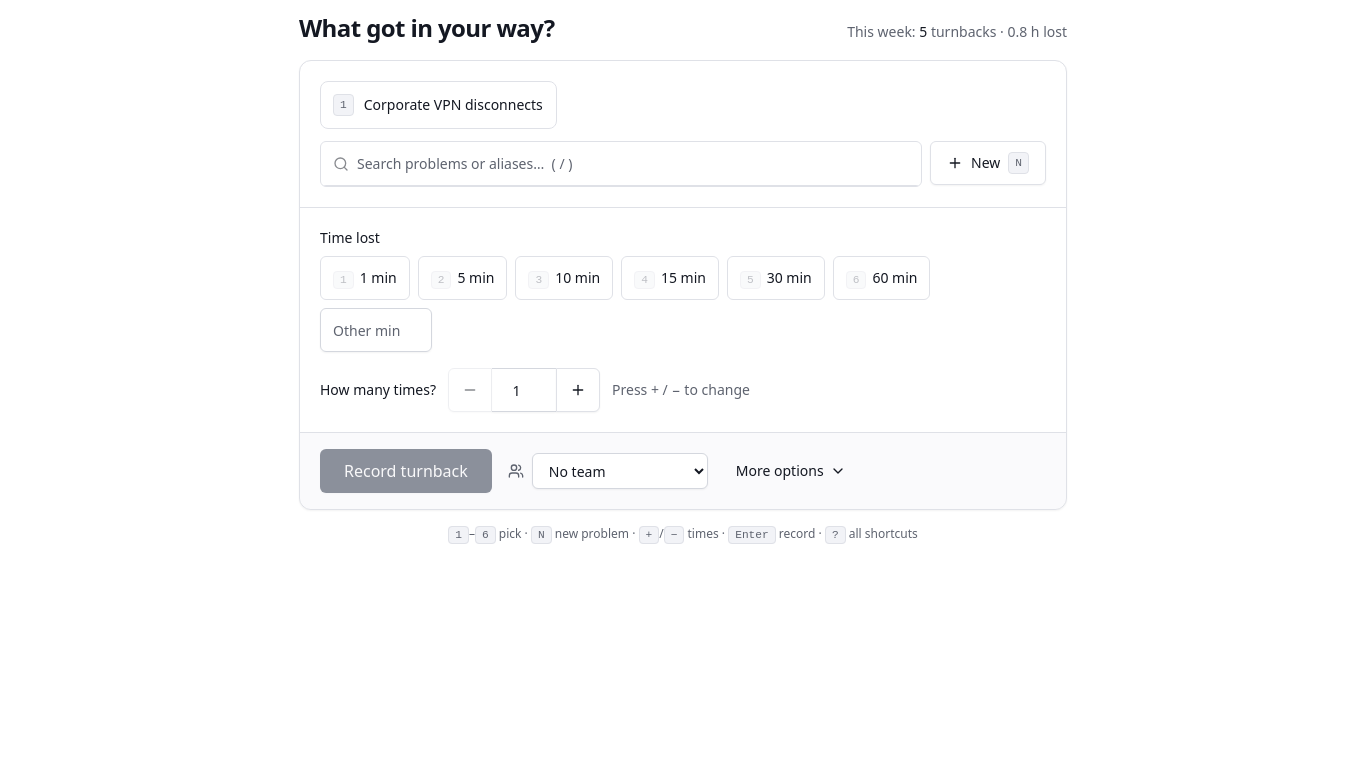
Scenario: RecordPage › records a turnback with a quick problem and a preset
Click the button "1 Corporate VPN disconnects" at (438, 105), box [320,81,557,129]
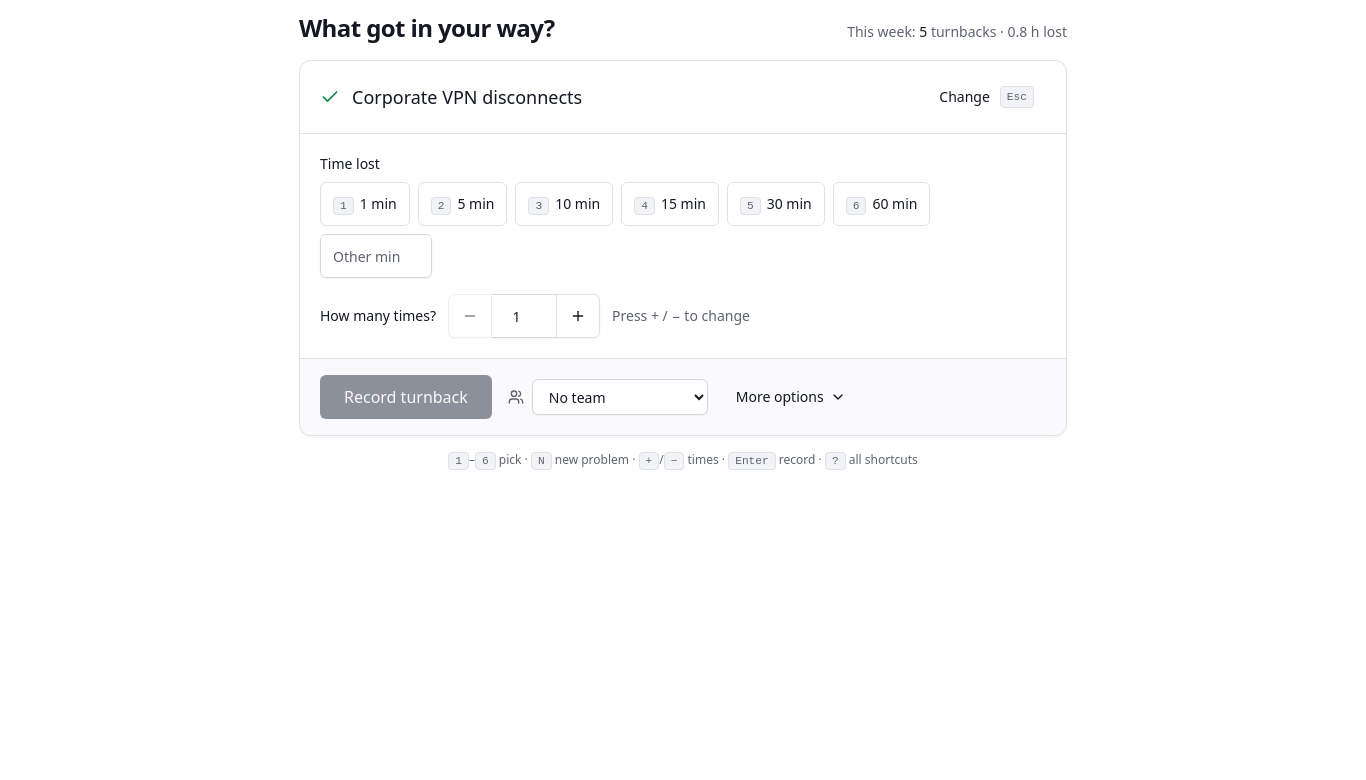
Click the radio button labelled "10 min" at (564, 204), box [516,182,613,226]
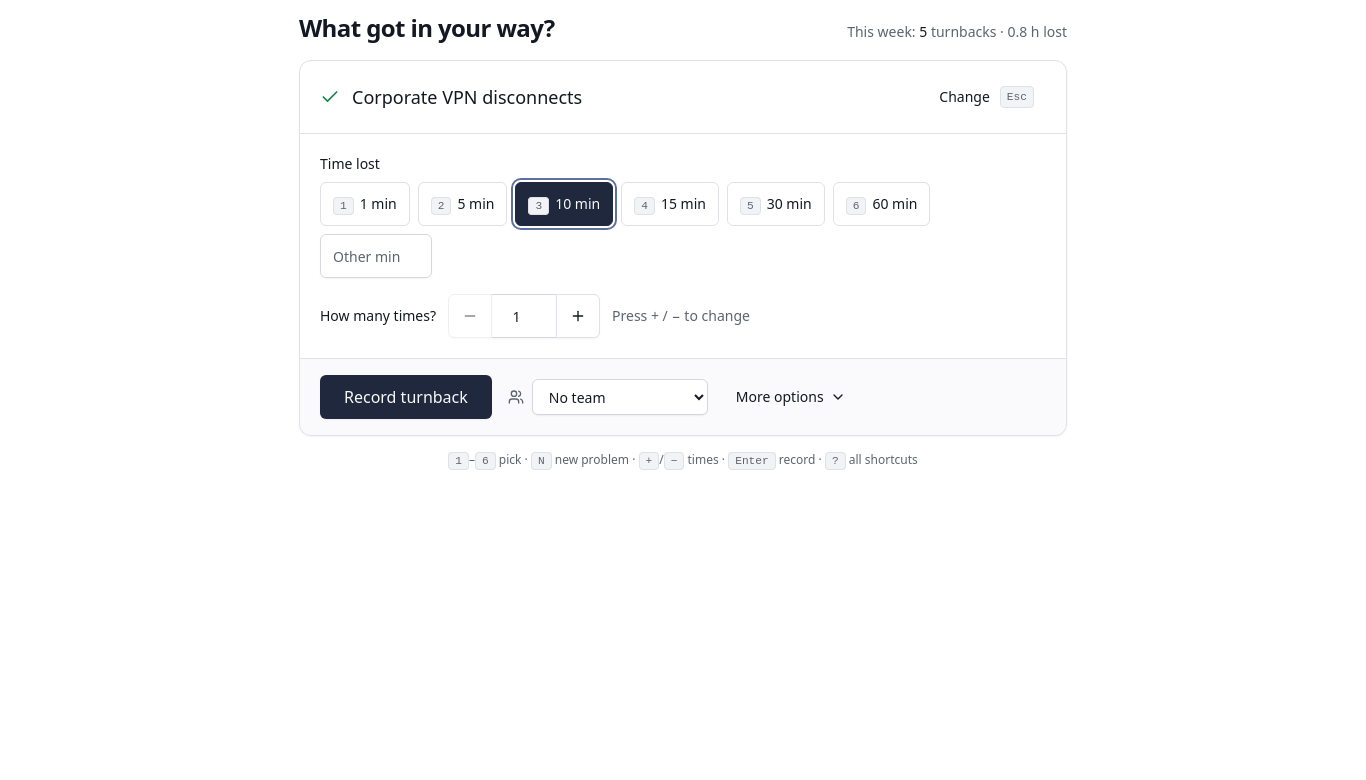
Click the button "More options" at (791, 397), box [724,381,858,413]
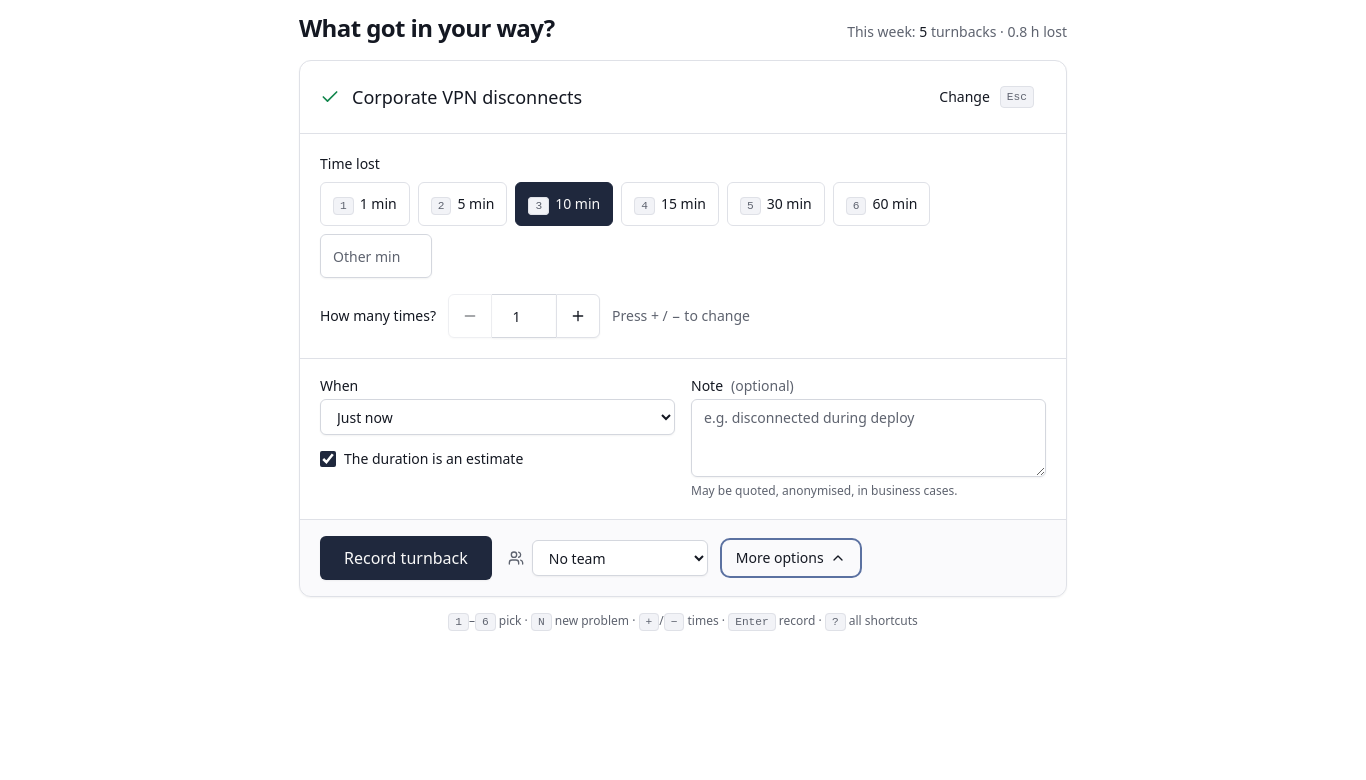
Type "dropped again" into the text box labelled "Note (optional)" at (868, 438), box [691,399,1046,477]
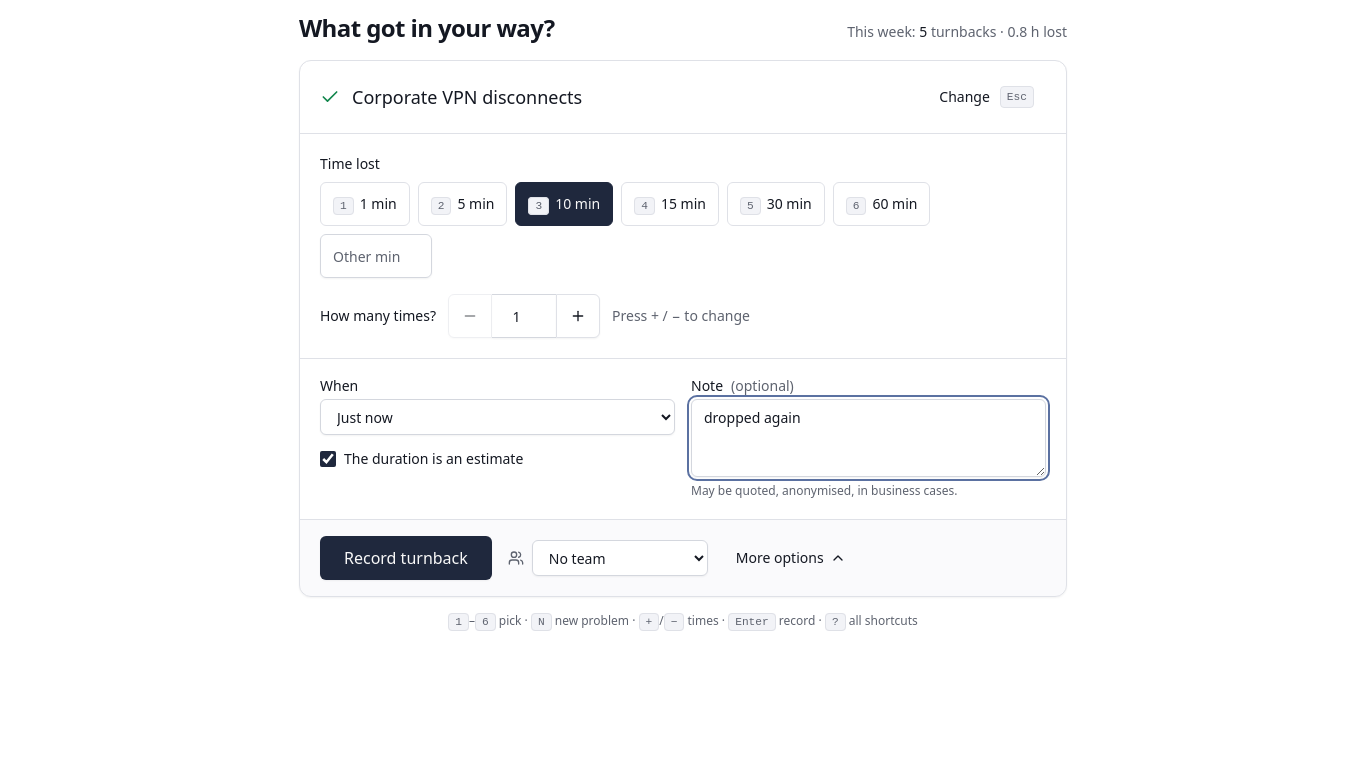
Click the button with test id "submit-turnback" at (406, 558), box [320,536,492,580]
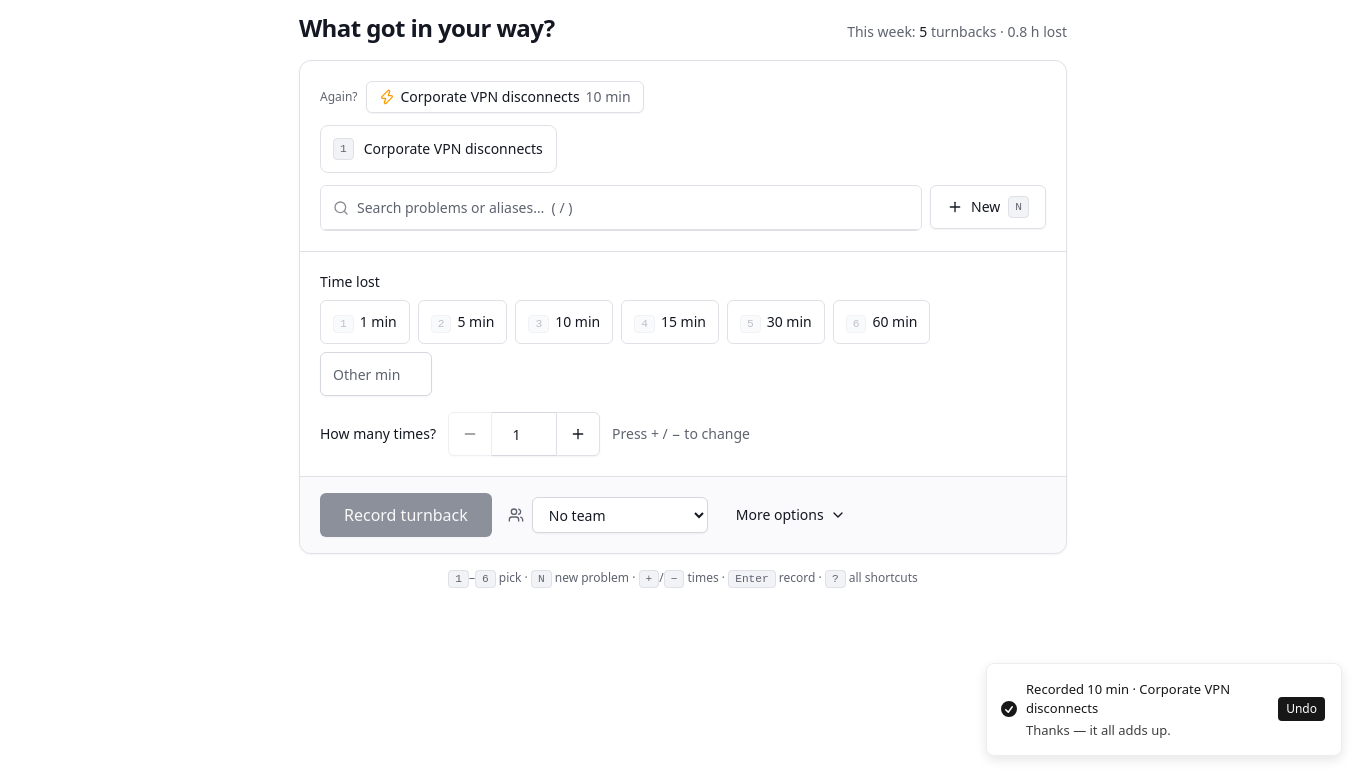
Result: the text "Recorded 10 min · Corporate VPN disconnects" is shown at [1026,680,1230,717]
Result: the text with test id "selected-problem" is gone
Result: the button with aria-label "Happened again: Corporate VPN disconnects, 10 min" is shown at [366,81,644,113]
